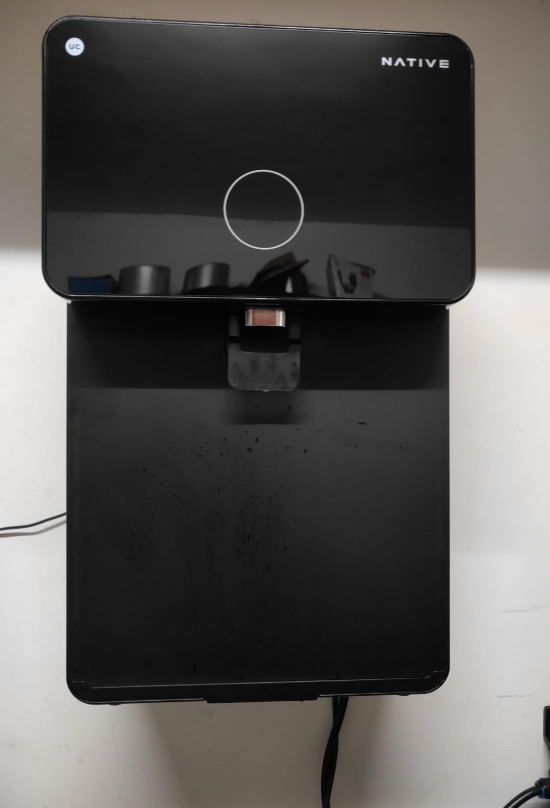water purifier: (32, 5, 480, 716)
